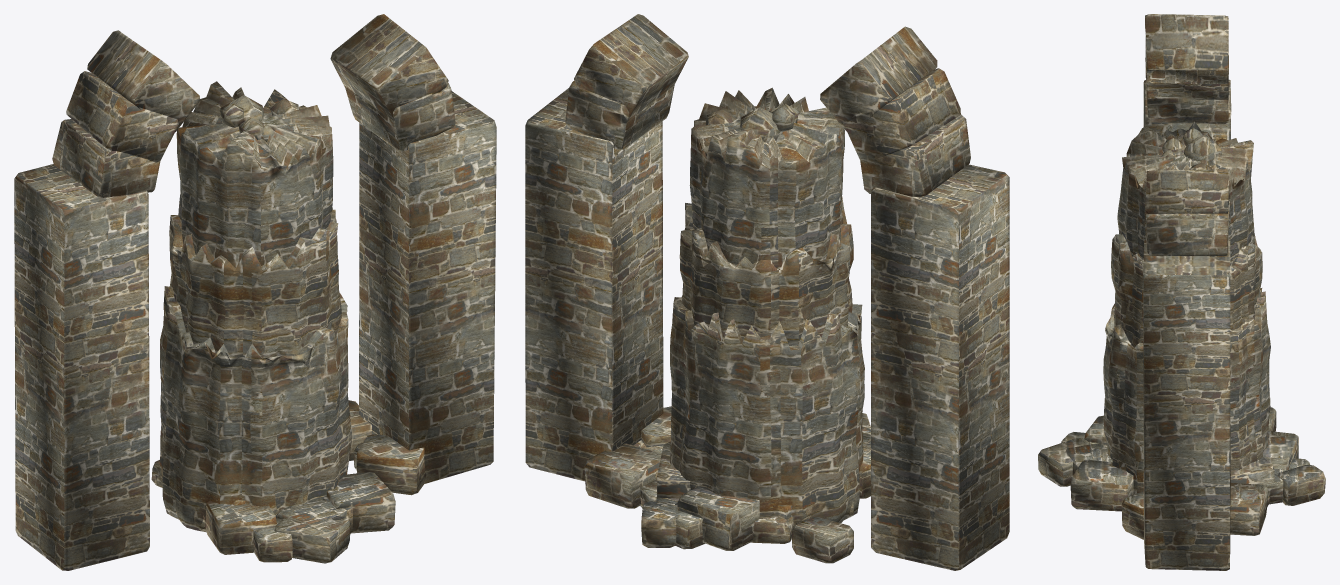
The model's file is ruins.glb.
The picture shows the model from 3 angles, left to right: view 1: azimuth 30°, elevation 25°; view 2: azimuth 150°, elevation 25°; view 3: azimuth 270°, elevation 25°; orthographic projection. The views are drawn at different scales.
Visible parts, largest first — view 1: Ruin_Arch_0, Ruin_Column_2, Ruin_Column_1, Ruin_Column_0, Ruin_Rubble_0, Ruin_Rubble_1; view 2: Ruin_Arch_0, Ruin_Column_2, Ruin_Column_1, Ruin_Column_0, Ruin_Rubble_1, Ruin_Rubble_0; view 3: Ruin_Arch_0, Ruin_Column_2, Ruin_Column_1, Ruin_Rubble_0, Ruin_Rubble_1, Ruin_Column_0.
Part boxes in pixels (left/top/right/bottom): Ruin_Arch_0: left=14, top=14, right=496, bottom=570; Ruin_Column_2: left=159, top=274, right=352, bottom=532; Ruin_Column_1: left=176, top=81, right=333, bottom=268; Ruin_Column_0: left=169, top=207, right=341, bottom=356; Ruin_Rubble_0: left=177, top=400, right=395, bottom=562; Ruin_Rubble_1: left=151, top=434, right=426, bottom=563; Ruin_Arch_0: left=525, top=14, right=1009, bottom=570; Ruin_Column_2: left=670, top=295, right=864, bottom=527; Ruin_Column_1: left=689, top=87, right=844, bottom=269; Ruin_Column_0: left=679, top=196, right=853, bottom=345; Ruin_Rubble_1: left=641, top=406, right=870, bottom=563; Ruin_Rubble_0: left=584, top=433, right=870, bottom=550; Ruin_Arch_0: left=1143, top=14, right=1231, bottom=570; Ruin_Column_2: left=1103, top=288, right=1270, bottom=494; Ruin_Column_1: left=1117, top=121, right=1254, bottom=265; Ruin_Rubble_0: left=1061, top=415, right=1298, bottom=535; Ruin_Rubble_1: left=1038, top=407, right=1325, bottom=539; Ruin_Column_0: left=1111, top=234, right=1262, bottom=347.
Size of the model in its own units: 5.52 by 5.94 by 3.69.
1 material, 1 textured.
